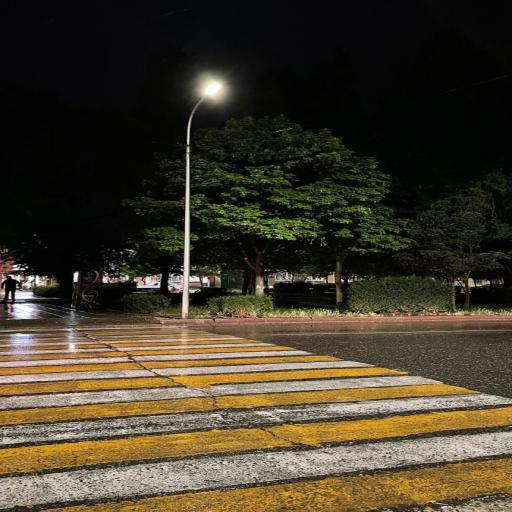closet: (0, 316, 512, 512)
entrance: (165, 68, 234, 322)
ramp: (0, 314, 512, 512)
